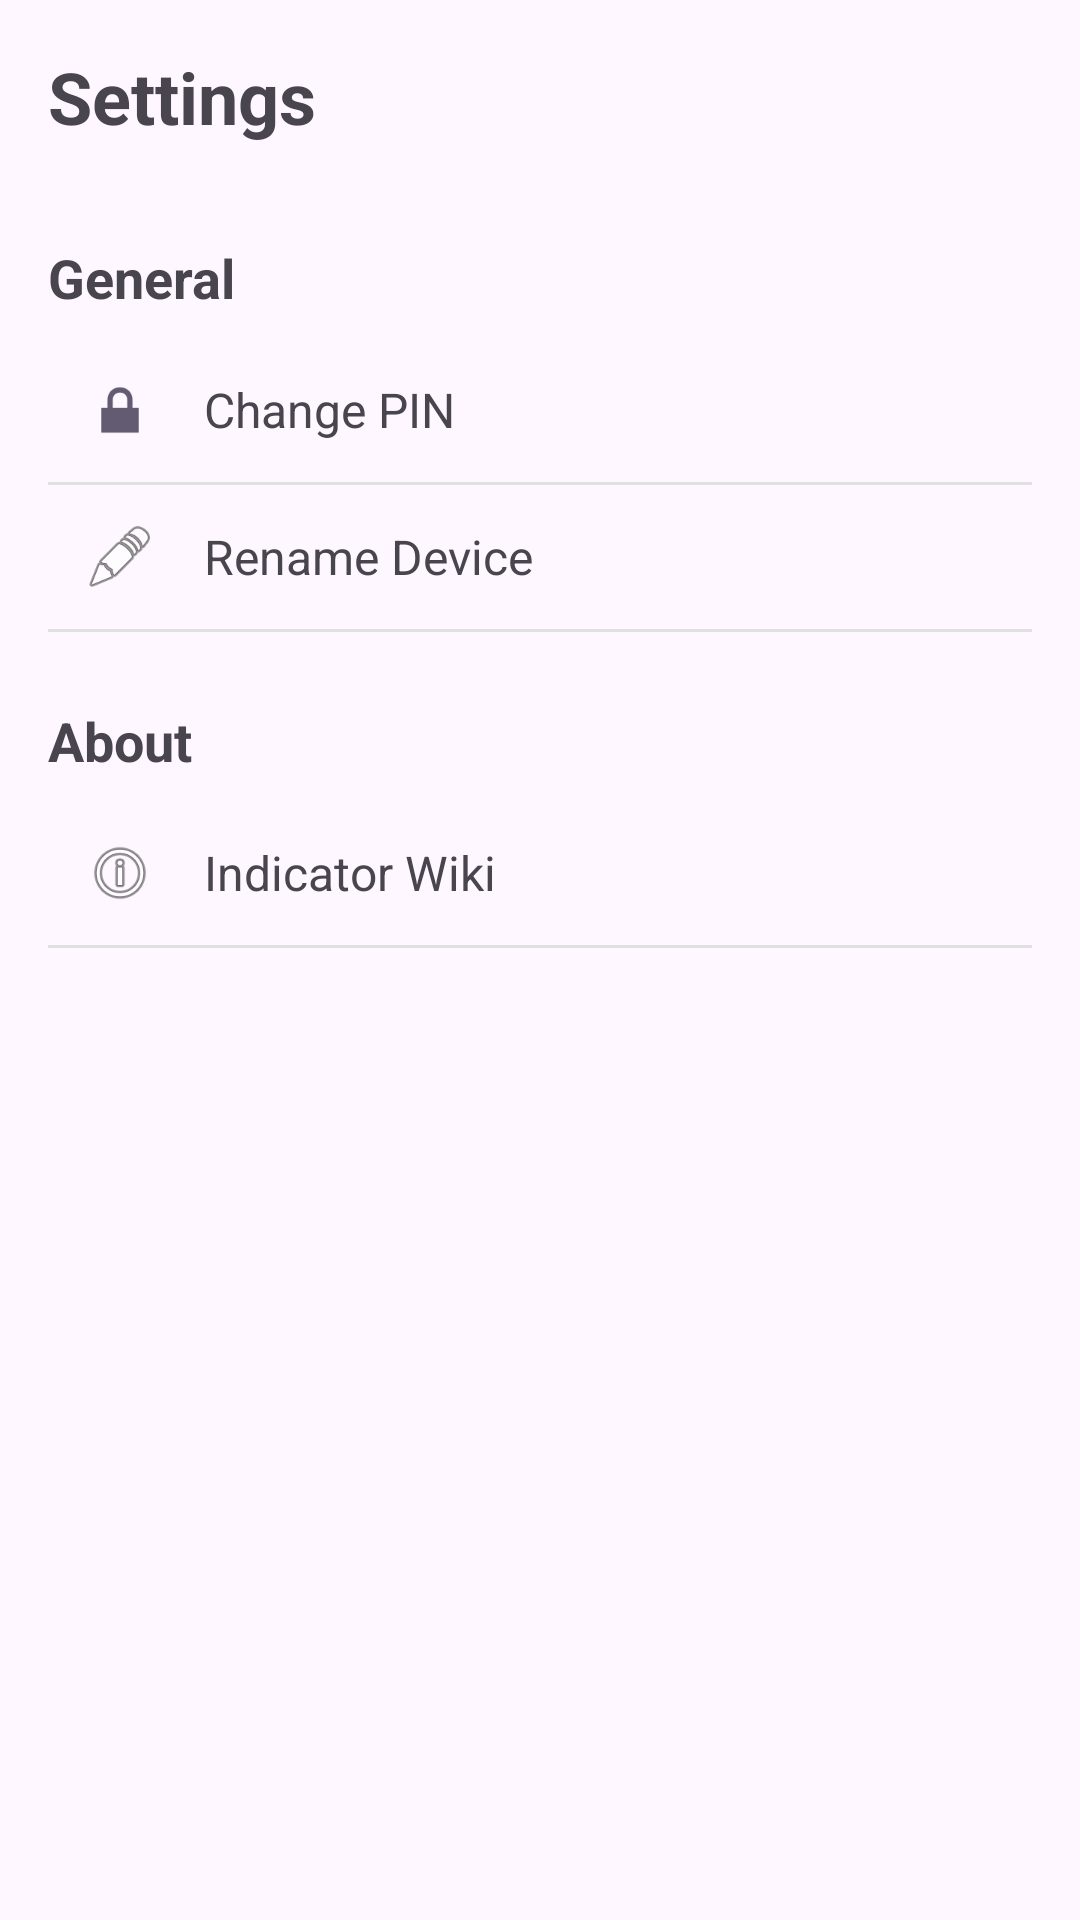

Screen size 1080w x 1920h. Icon name, then its center in pixels as point (x, y):
edit: point (119, 556)
info details: point (120, 873)
lock: point (120, 410)
